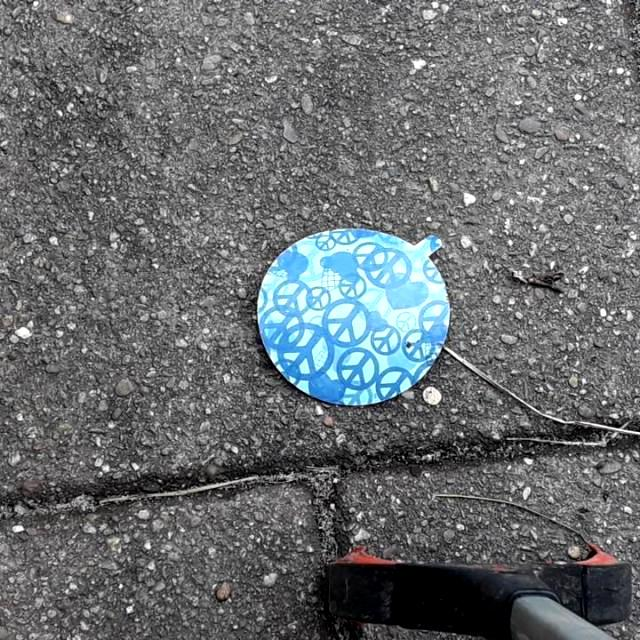Paper: (253, 224, 453, 410)
